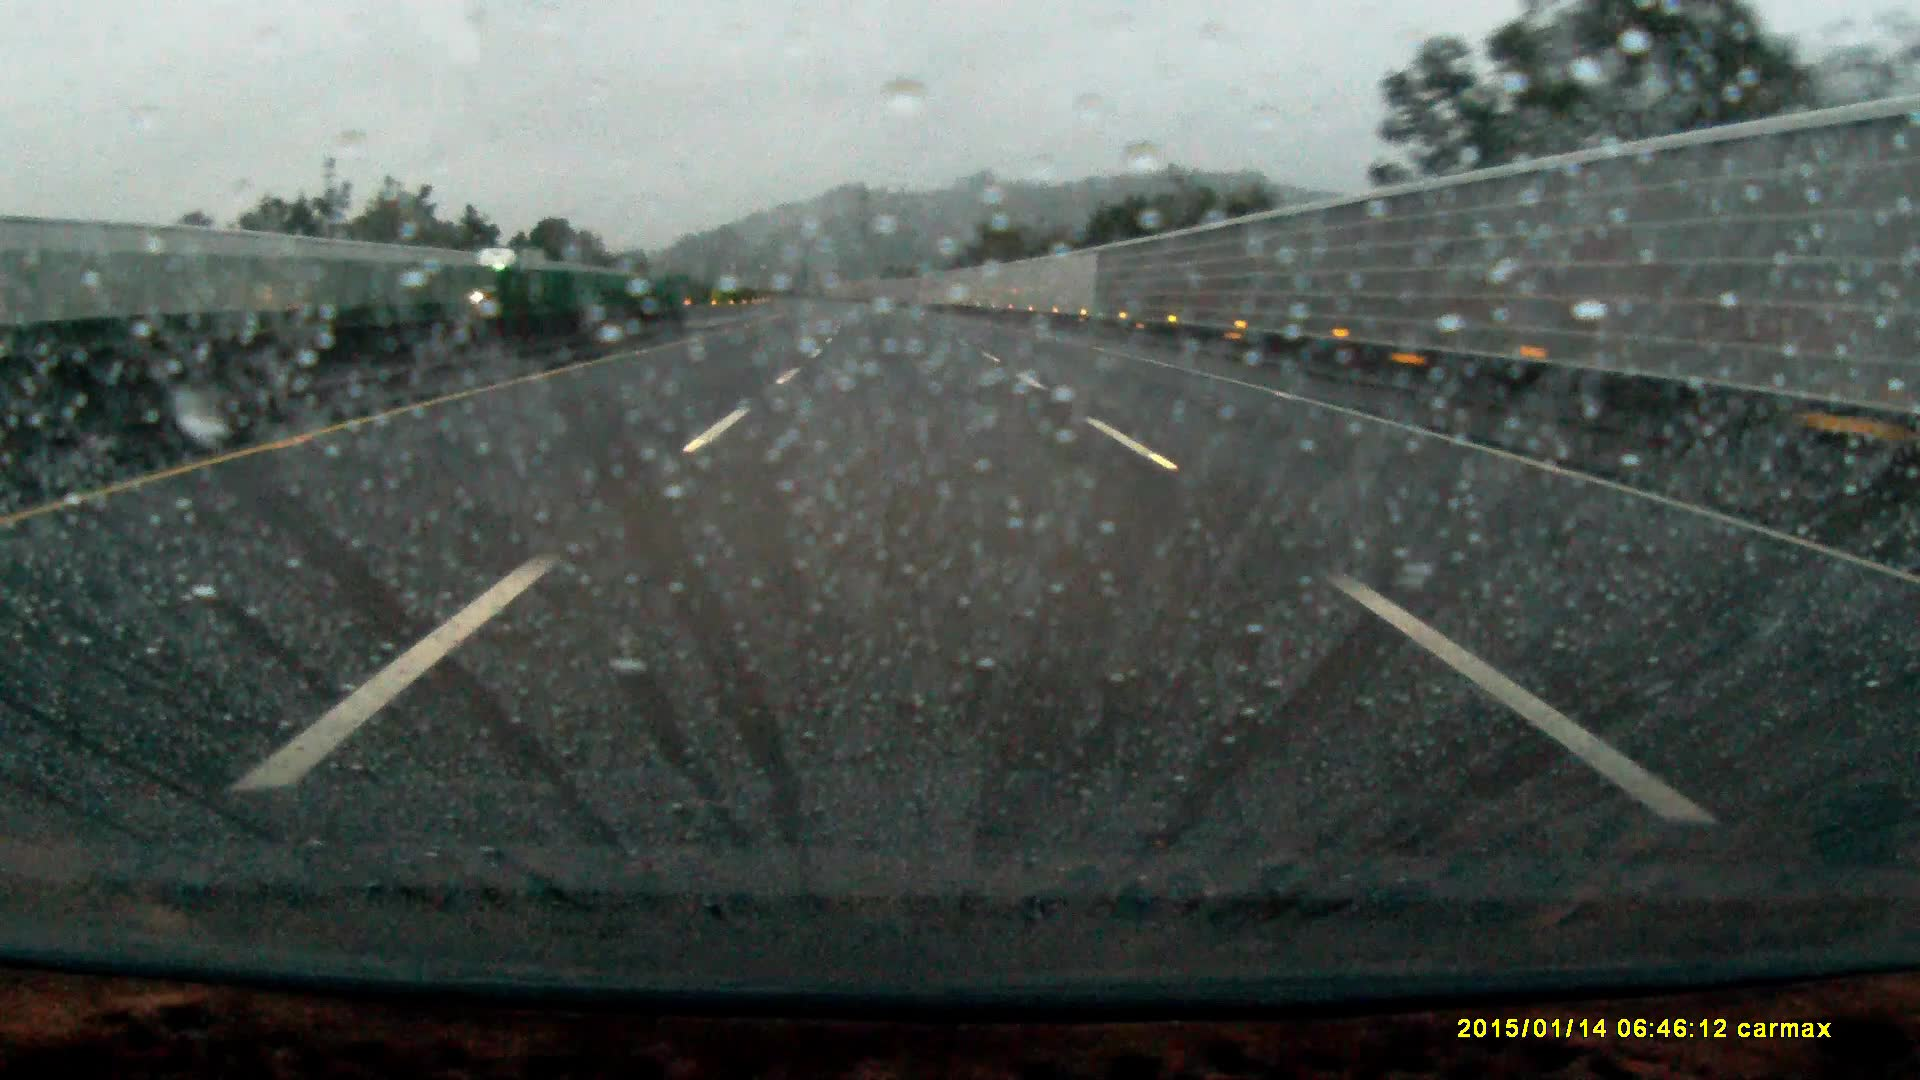vehicle: (471, 248, 551, 318)
